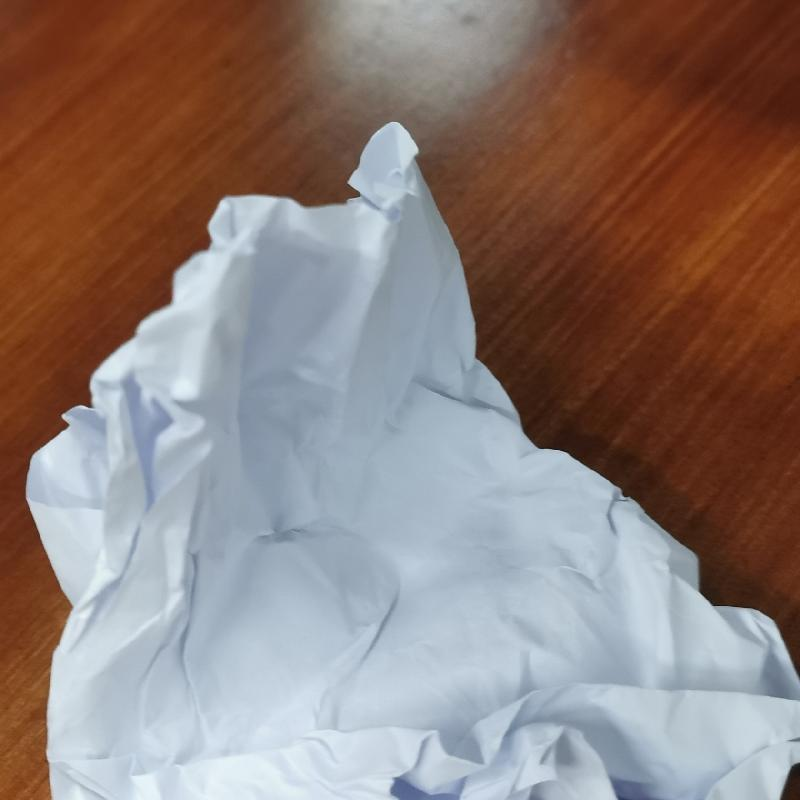spitball: (21, 118, 800, 800)
